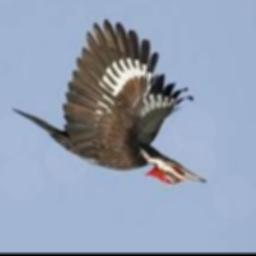Woodpecker: (12, 19, 205, 185)
